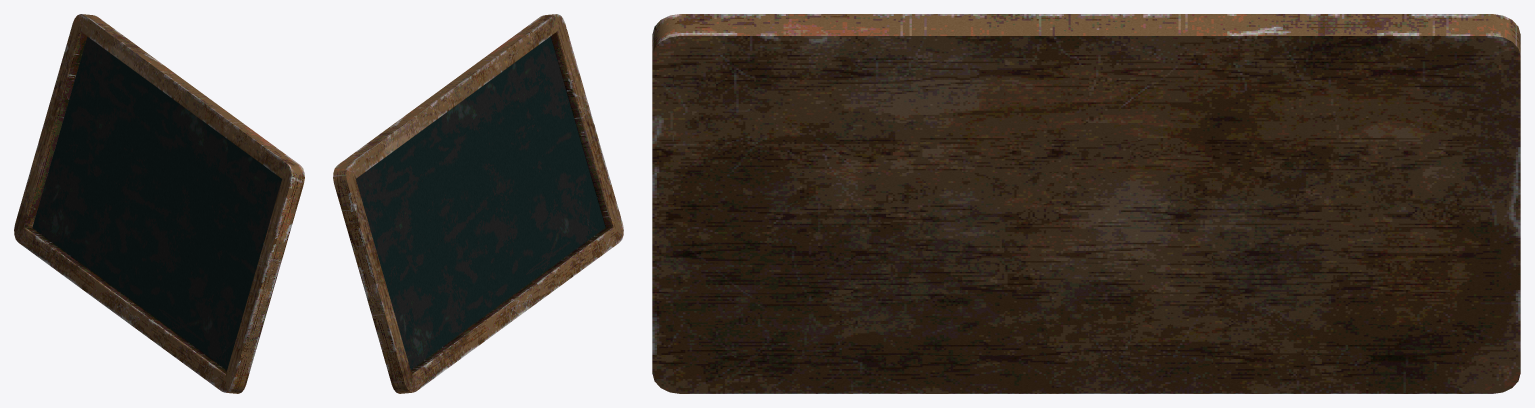
The model's file is Health_ChalkBoard.fbx.
3 renders of one model, left to right at view 1: azimuth 30°, elevation 25°; view 2: azimuth 150°, elevation 25°; view 3: azimuth 270°, elevation 25°, orthographic. The views are drawn at different scales.
Parts seen in each view (by area): view 1: Cube.012; view 2: Cube.012; view 3: Cube.012.
Boxes of the visible parts, box(x1,y1,x2,y2) form: Cube.012: box(14, 14, 304, 393); Cube.012: box(333, 14, 623, 393); Cube.012: box(652, 14, 1520, 393).
Size of the model in its own units: 8.37 by 21.97 by 40.14.
Materials: 1 (1 with a texture image).
